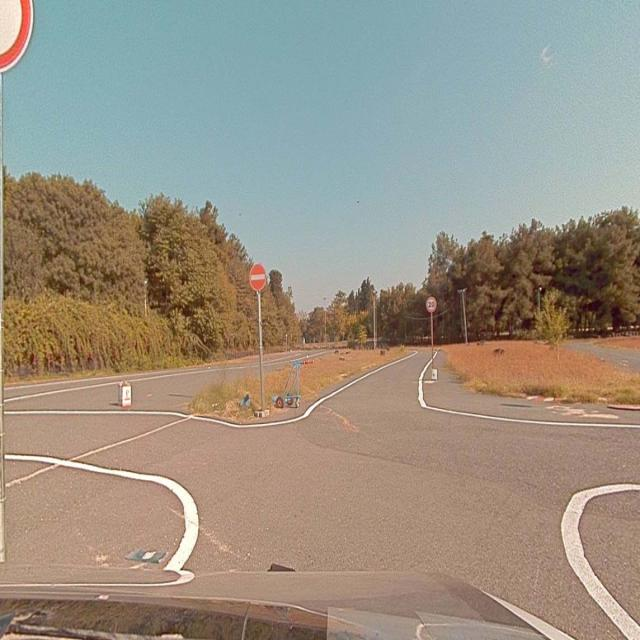20: (427, 298, 436, 311)
girisyok: (250, 264, 266, 290)
